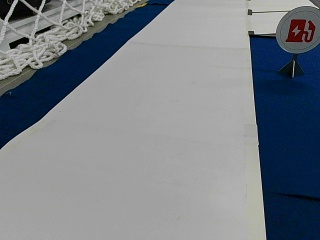battery: (275, 5, 319, 54)
